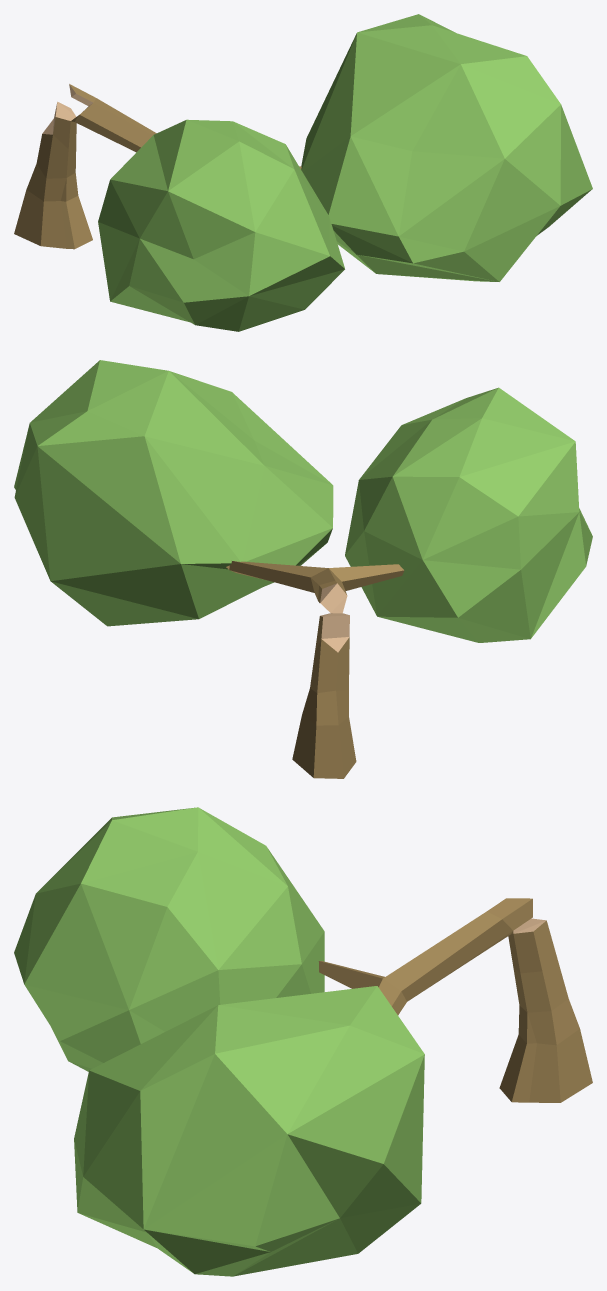
The model's file is Oak_Tree_crk_l_04.fbx.
3 renders of one model, top to bottom at view 1: azimuth 30°, elevation 25°; view 2: azimuth 150°, elevation 25°; view 3: azimuth 270°, elevation 25°, orthographic. The views are drawn at different scales.
Visible parts, largest first — view 1: Oak_Tree_crk_l_04; view 2: Oak_Tree_crk_l_04; view 3: Oak_Tree_crk_l_04.
Part boxes in pixels (<box>): Oak_Tree_crk_l_04: <box>14,14,592,331</box>; Oak_Tree_crk_l_04: <box>14,360,592,778</box>; Oak_Tree_crk_l_04: <box>14,807,592,1276</box>.
Bounding box in the file's own units: 950 × 411 × 774.
